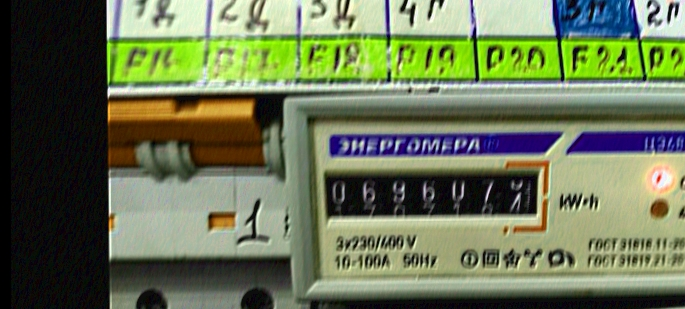0: (329, 180, 346, 204), (449, 177, 464, 202)
4: (506, 191, 523, 215)
6: (359, 180, 376, 204), (419, 178, 436, 202)
7: (479, 178, 494, 205)
9: (389, 179, 405, 203)
screen: (310, 156, 553, 232)
